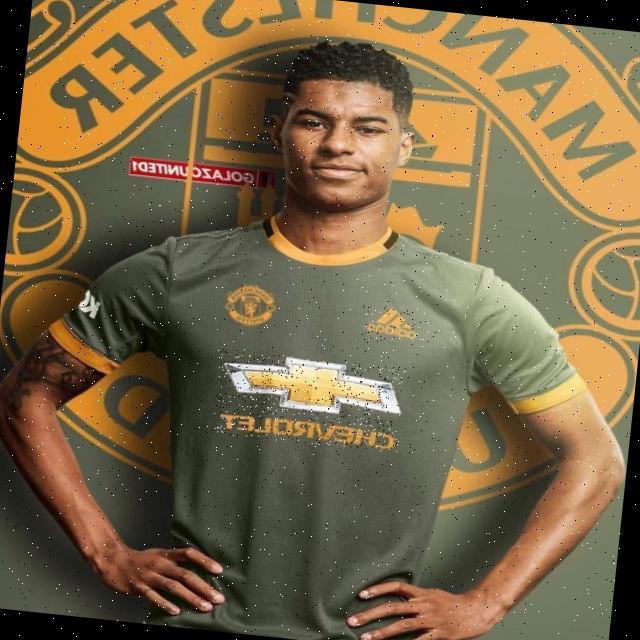Adidas: (358, 303, 425, 346)
Chevrolet: (211, 349, 405, 453)
